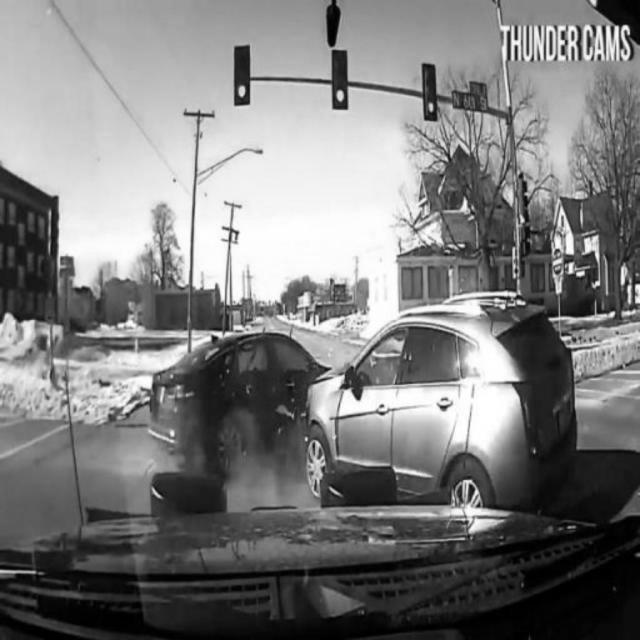accident: (152, 318, 574, 508)
